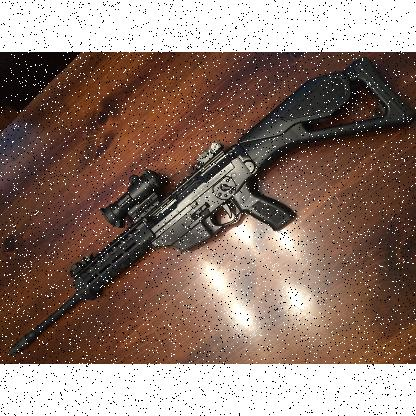gun: (0, 57, 416, 356)
